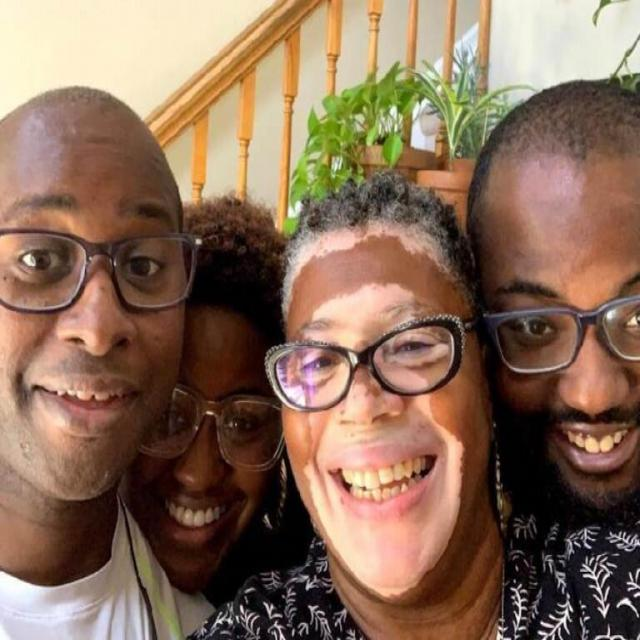vitiligo: (288, 243, 477, 603)
